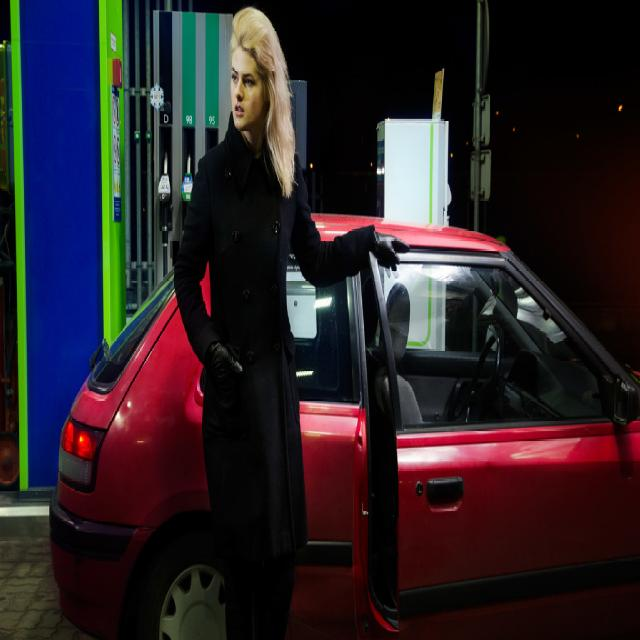other: (47, 211, 639, 639)
